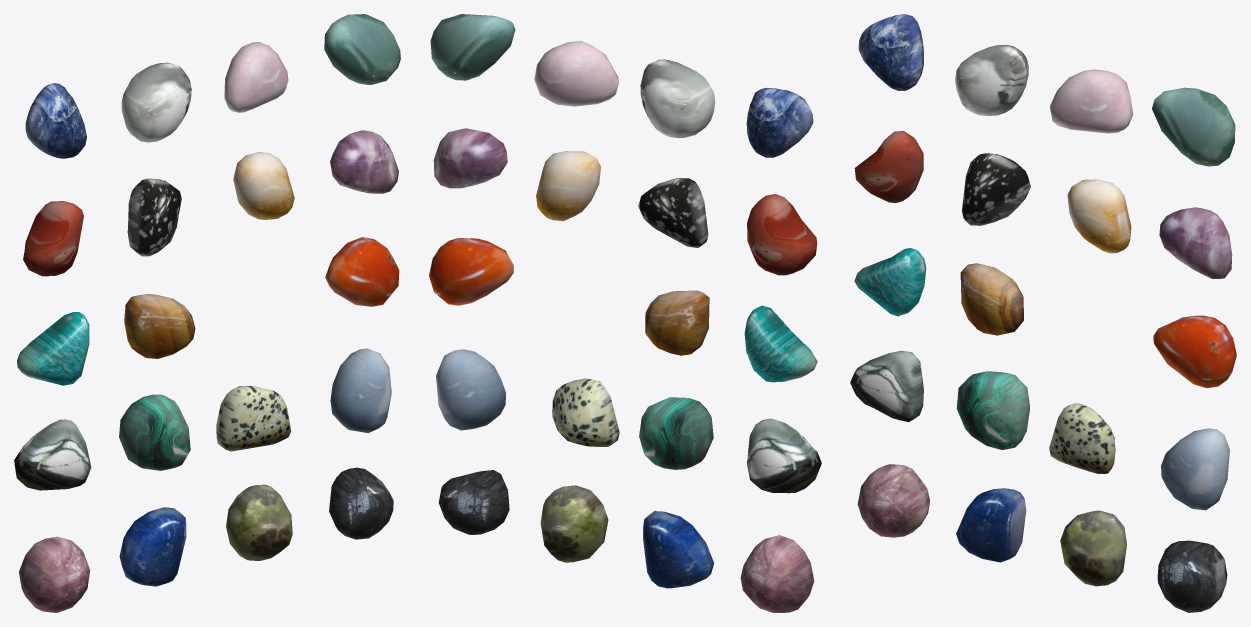
The model's file is Gemstones.fbx.
3 renders of one model, left to right at view 1: azimuth 30°, elevation 25°; view 2: azimuth 150°, elevation 25°; view 3: azimuth 330°, elevation 25°, orthographic.
Visible parts, largest first — view 1: Malachite, ClearQuartz, Lepidolite, Aventure, Lapis Lazuli, Hematite, Angelite, Serpentine, Dalmatian Stone, Carnelian, Amazonite, Tiger Eye (+7 smaller); view 2: ClearQuartz, Angelite, Malachite, Lepidolite, Carnelian, RoseQuartz, Aventure, Hematite, Lapis Lazuli, Red Jasper, Serpentine, Amazonite (+7 smaller); view 3: Aventure, Malachite, Carnelian, Angelite, RoseQuartz, ClearQuartz, Lepidolite, Black Onyx, Serpentine, Lapis Lazuli, Hematite, Amethyst (+7 smaller).
Boxes of the visible parts, x1=… form: Malachite: x1=119, y1=394, x2=190, y2=470; ClearQuartz: x1=121, y1=62, x2=191, y2=142; Lepidolite: x1=19, y1=536, x2=90, y2=612; Aventure: x1=324, y1=14, x2=400, y2=84; Lapis Lazuli: x1=119, y1=507, x2=186, y2=586; Hematite: x1=14, y1=419, x2=91, y2=490; Angelite: x1=330, y1=348, x2=391, y2=432; Serpentine: x1=226, y1=484, x2=292, y2=560; Dalmatian Stone: x1=216, y1=385, x2=291, y2=451; Carnelian: x1=325, y1=237, x2=399, y2=306; Amazonite: x1=17, y1=312, x2=89, y2=385; Tiger Eye: x1=124, y1=294, x2=195, y2=358; ClearQuartz: x1=640, y1=59, x2=715, y2=138; Angelite: x1=436, y1=349, x2=506, y2=430; Malachite: x1=639, y1=397, x2=713, y2=469; Lepidolite: x1=740, y1=535, x2=814, y2=612; Carnelian: x1=429, y1=238, x2=513, y2=305; RoseQuartz: x1=534, y1=40, x2=618, y2=106; Aventure: x1=430, y1=14, x2=515, y2=80; Hematite: x1=747, y1=418, x2=821, y2=493; Lapis Lazuli: x1=643, y1=511, x2=714, y2=588; Red Jasper: x1=747, y1=194, x2=817, y2=275; Serpentine: x1=540, y1=485, x2=608, y2=562; Amazonite: x1=744, y1=305, x2=817, y2=382; Aventure: x1=1152, y1=87, x2=1235, y2=166; Malachite: x1=956, y1=371, x2=1029, y2=450; Carnelian: x1=1153, y1=315, x2=1236, y2=388; Angelite: x1=1161, y1=428, x2=1229, y2=510; RoseQuartz: x1=1050, y1=69, x2=1133, y2=133; ClearQuartz: x1=955, y1=45, x2=1028, y2=115; Lepidolite: x1=857, y1=464, x2=929, y2=537; Black Onyx: x1=1157, y1=540, x2=1227, y2=612; Serpentine: x1=1060, y1=510, x2=1126, y2=586; Lapis Lazuli: x1=956, y1=488, x2=1026, y2=562; Hematite: x1=850, y1=350, x2=923, y2=422; Amethyst: x1=1159, y1=207, x2=1232, y2=278.
Bounding box in the file's own units: 640 × 833 × 102.
